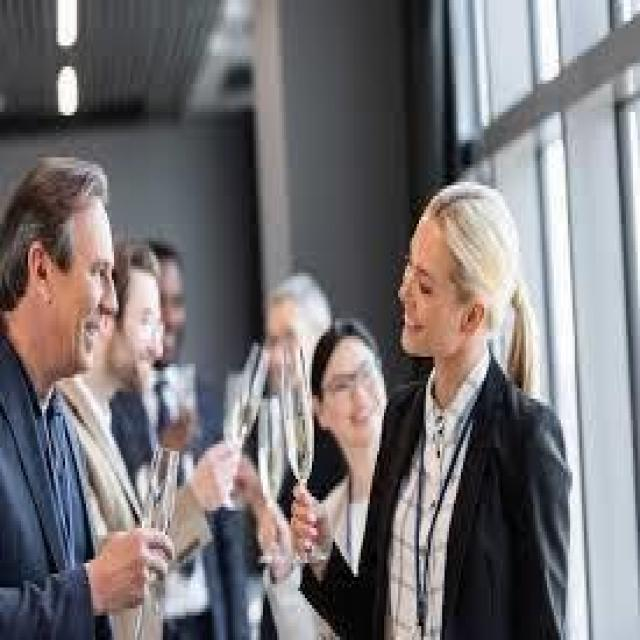person: (363, 126, 596, 636), (2, 116, 119, 636), (107, 213, 179, 483), (314, 297, 396, 518), (256, 241, 340, 420), (154, 224, 196, 378)
